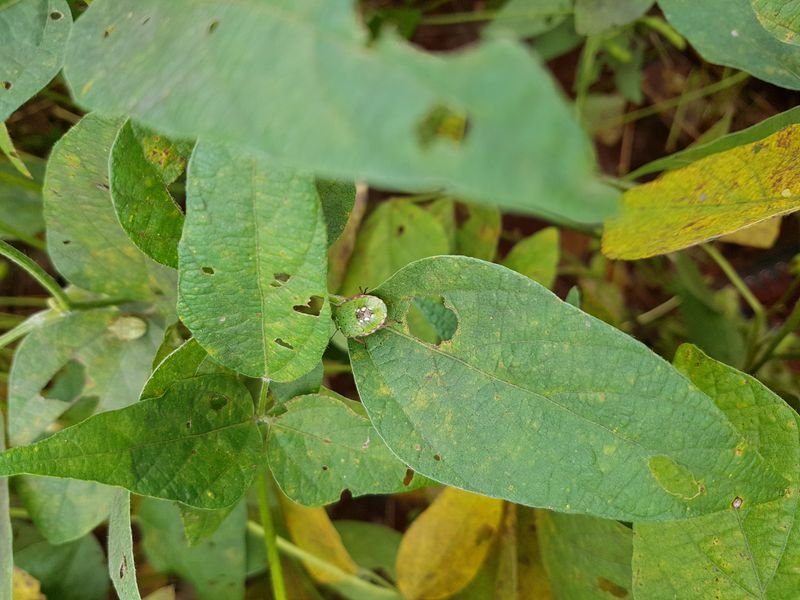Nezara_viridula_ninfa: (307, 272, 413, 355)
